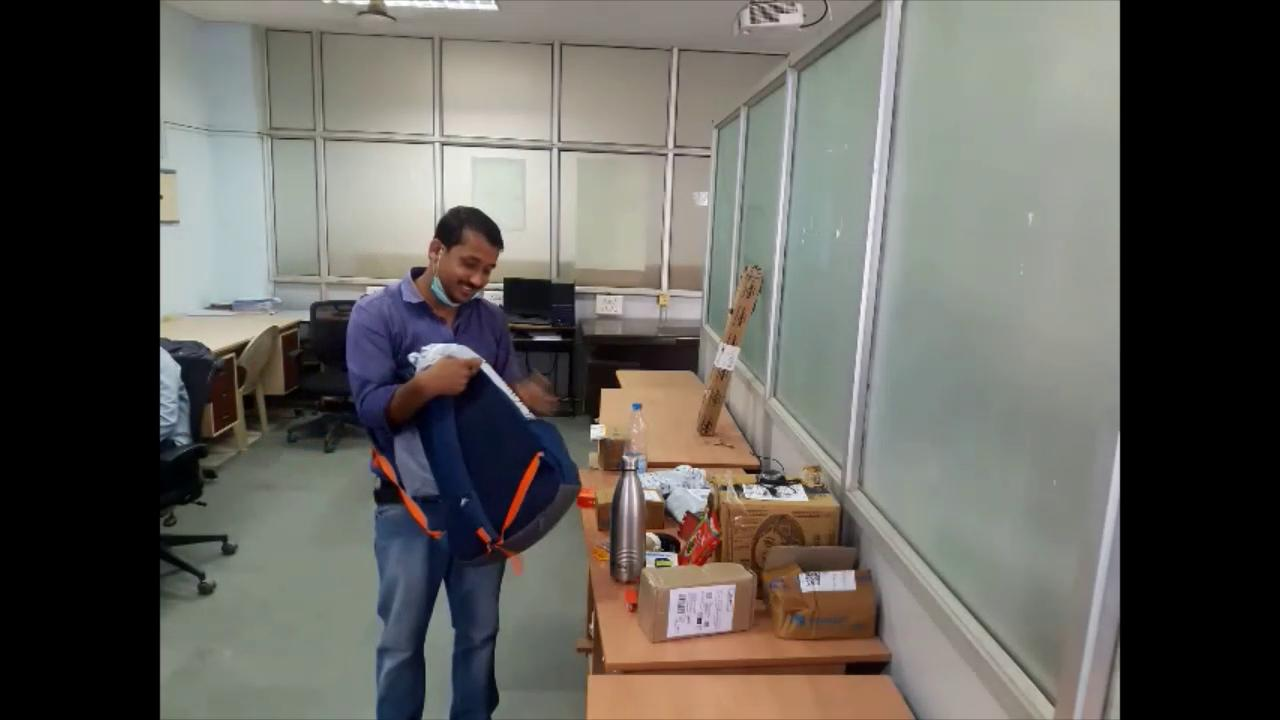shoplifting: (334, 195, 582, 717)
